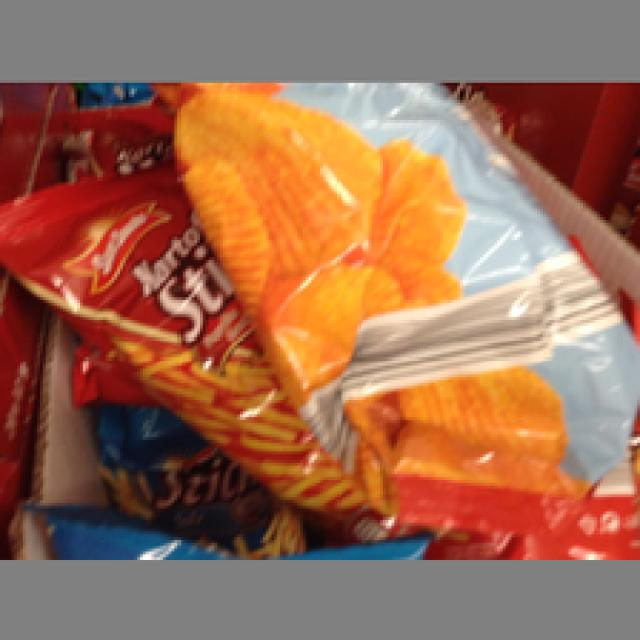groceries: (174, 83, 637, 480)
